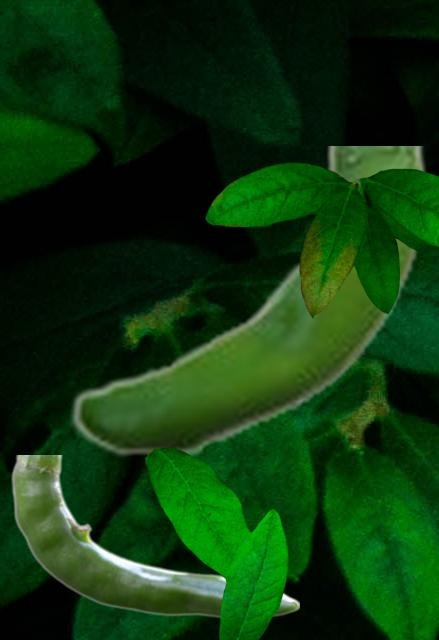green_chili: (69, 146, 426, 459), (11, 455, 298, 617)
